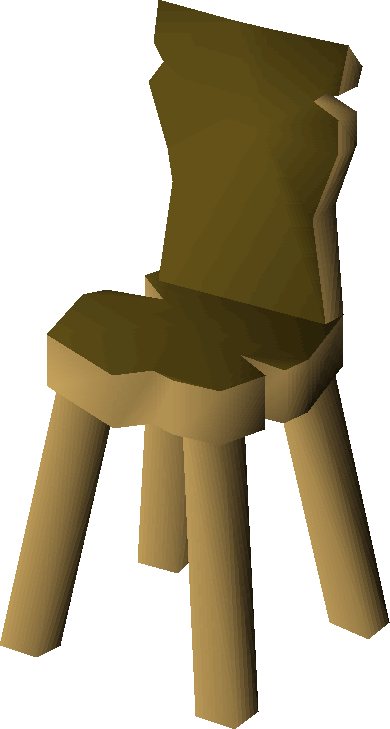chair: (1, 1, 390, 729)
